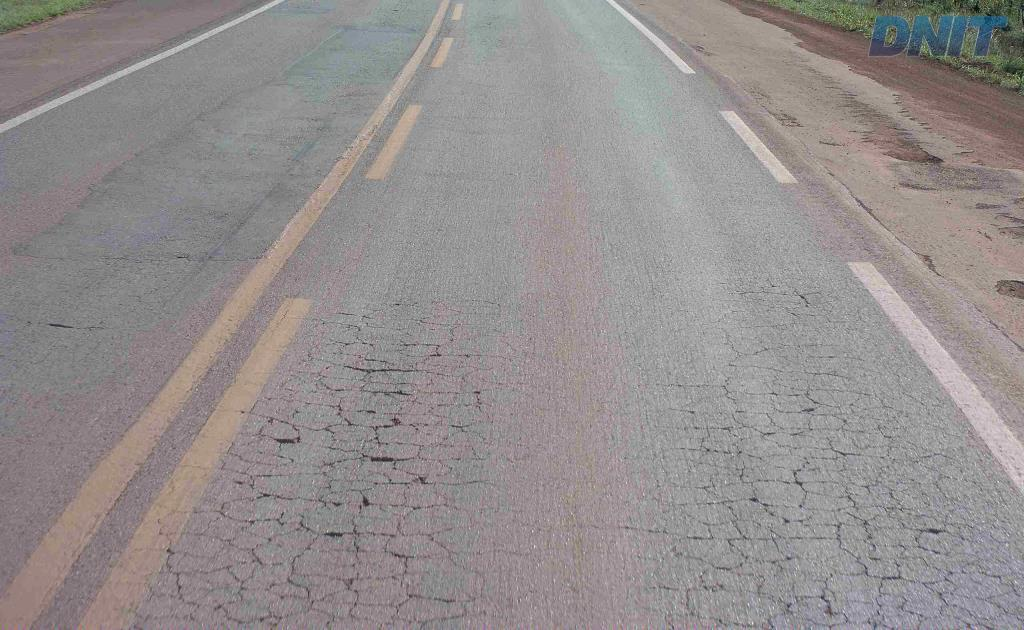crack: (264, 511, 370, 594), (303, 441, 420, 514), (165, 539, 258, 594), (365, 514, 416, 587), (342, 343, 434, 381), (252, 393, 301, 452)
